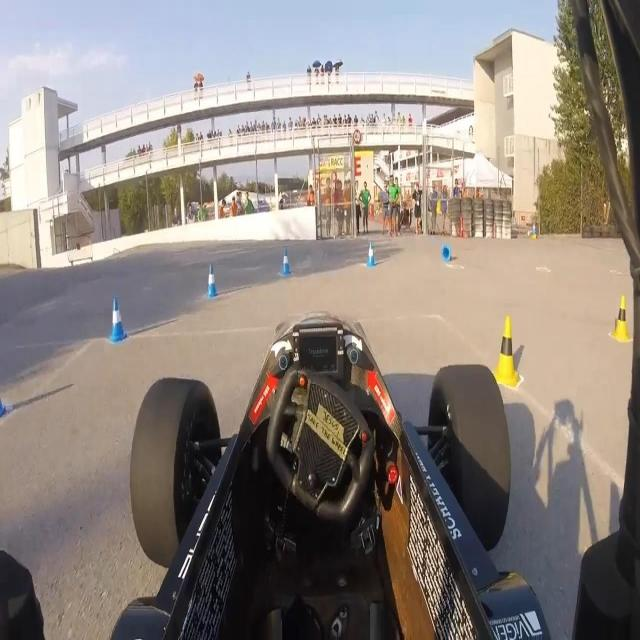blue_cone: (108, 294, 129, 345), (204, 261, 218, 297), (280, 246, 292, 278), (364, 240, 377, 268), (440, 243, 452, 264), (0, 393, 7, 421), (532, 222, 536, 234)
yellow_cone: (496, 313, 522, 387), (610, 294, 632, 344)
